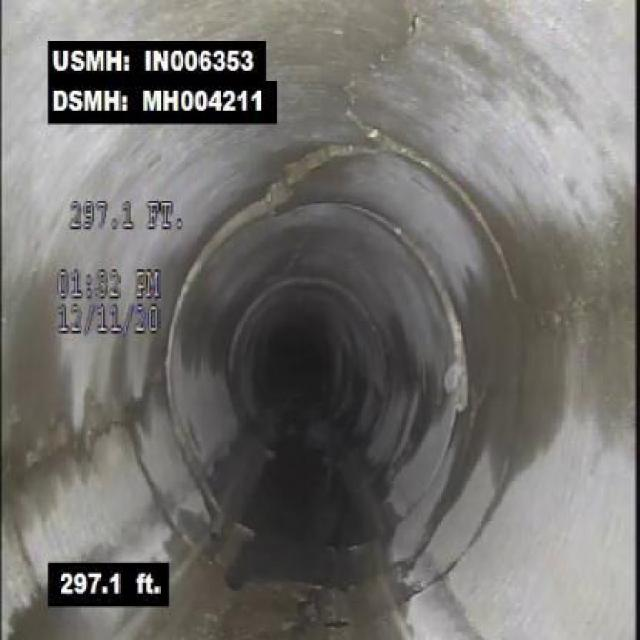Buckling: (268, 137, 380, 212)
Crack: (338, 2, 431, 112), (11, 411, 128, 482)
Joint offset: (416, 251, 472, 403)
